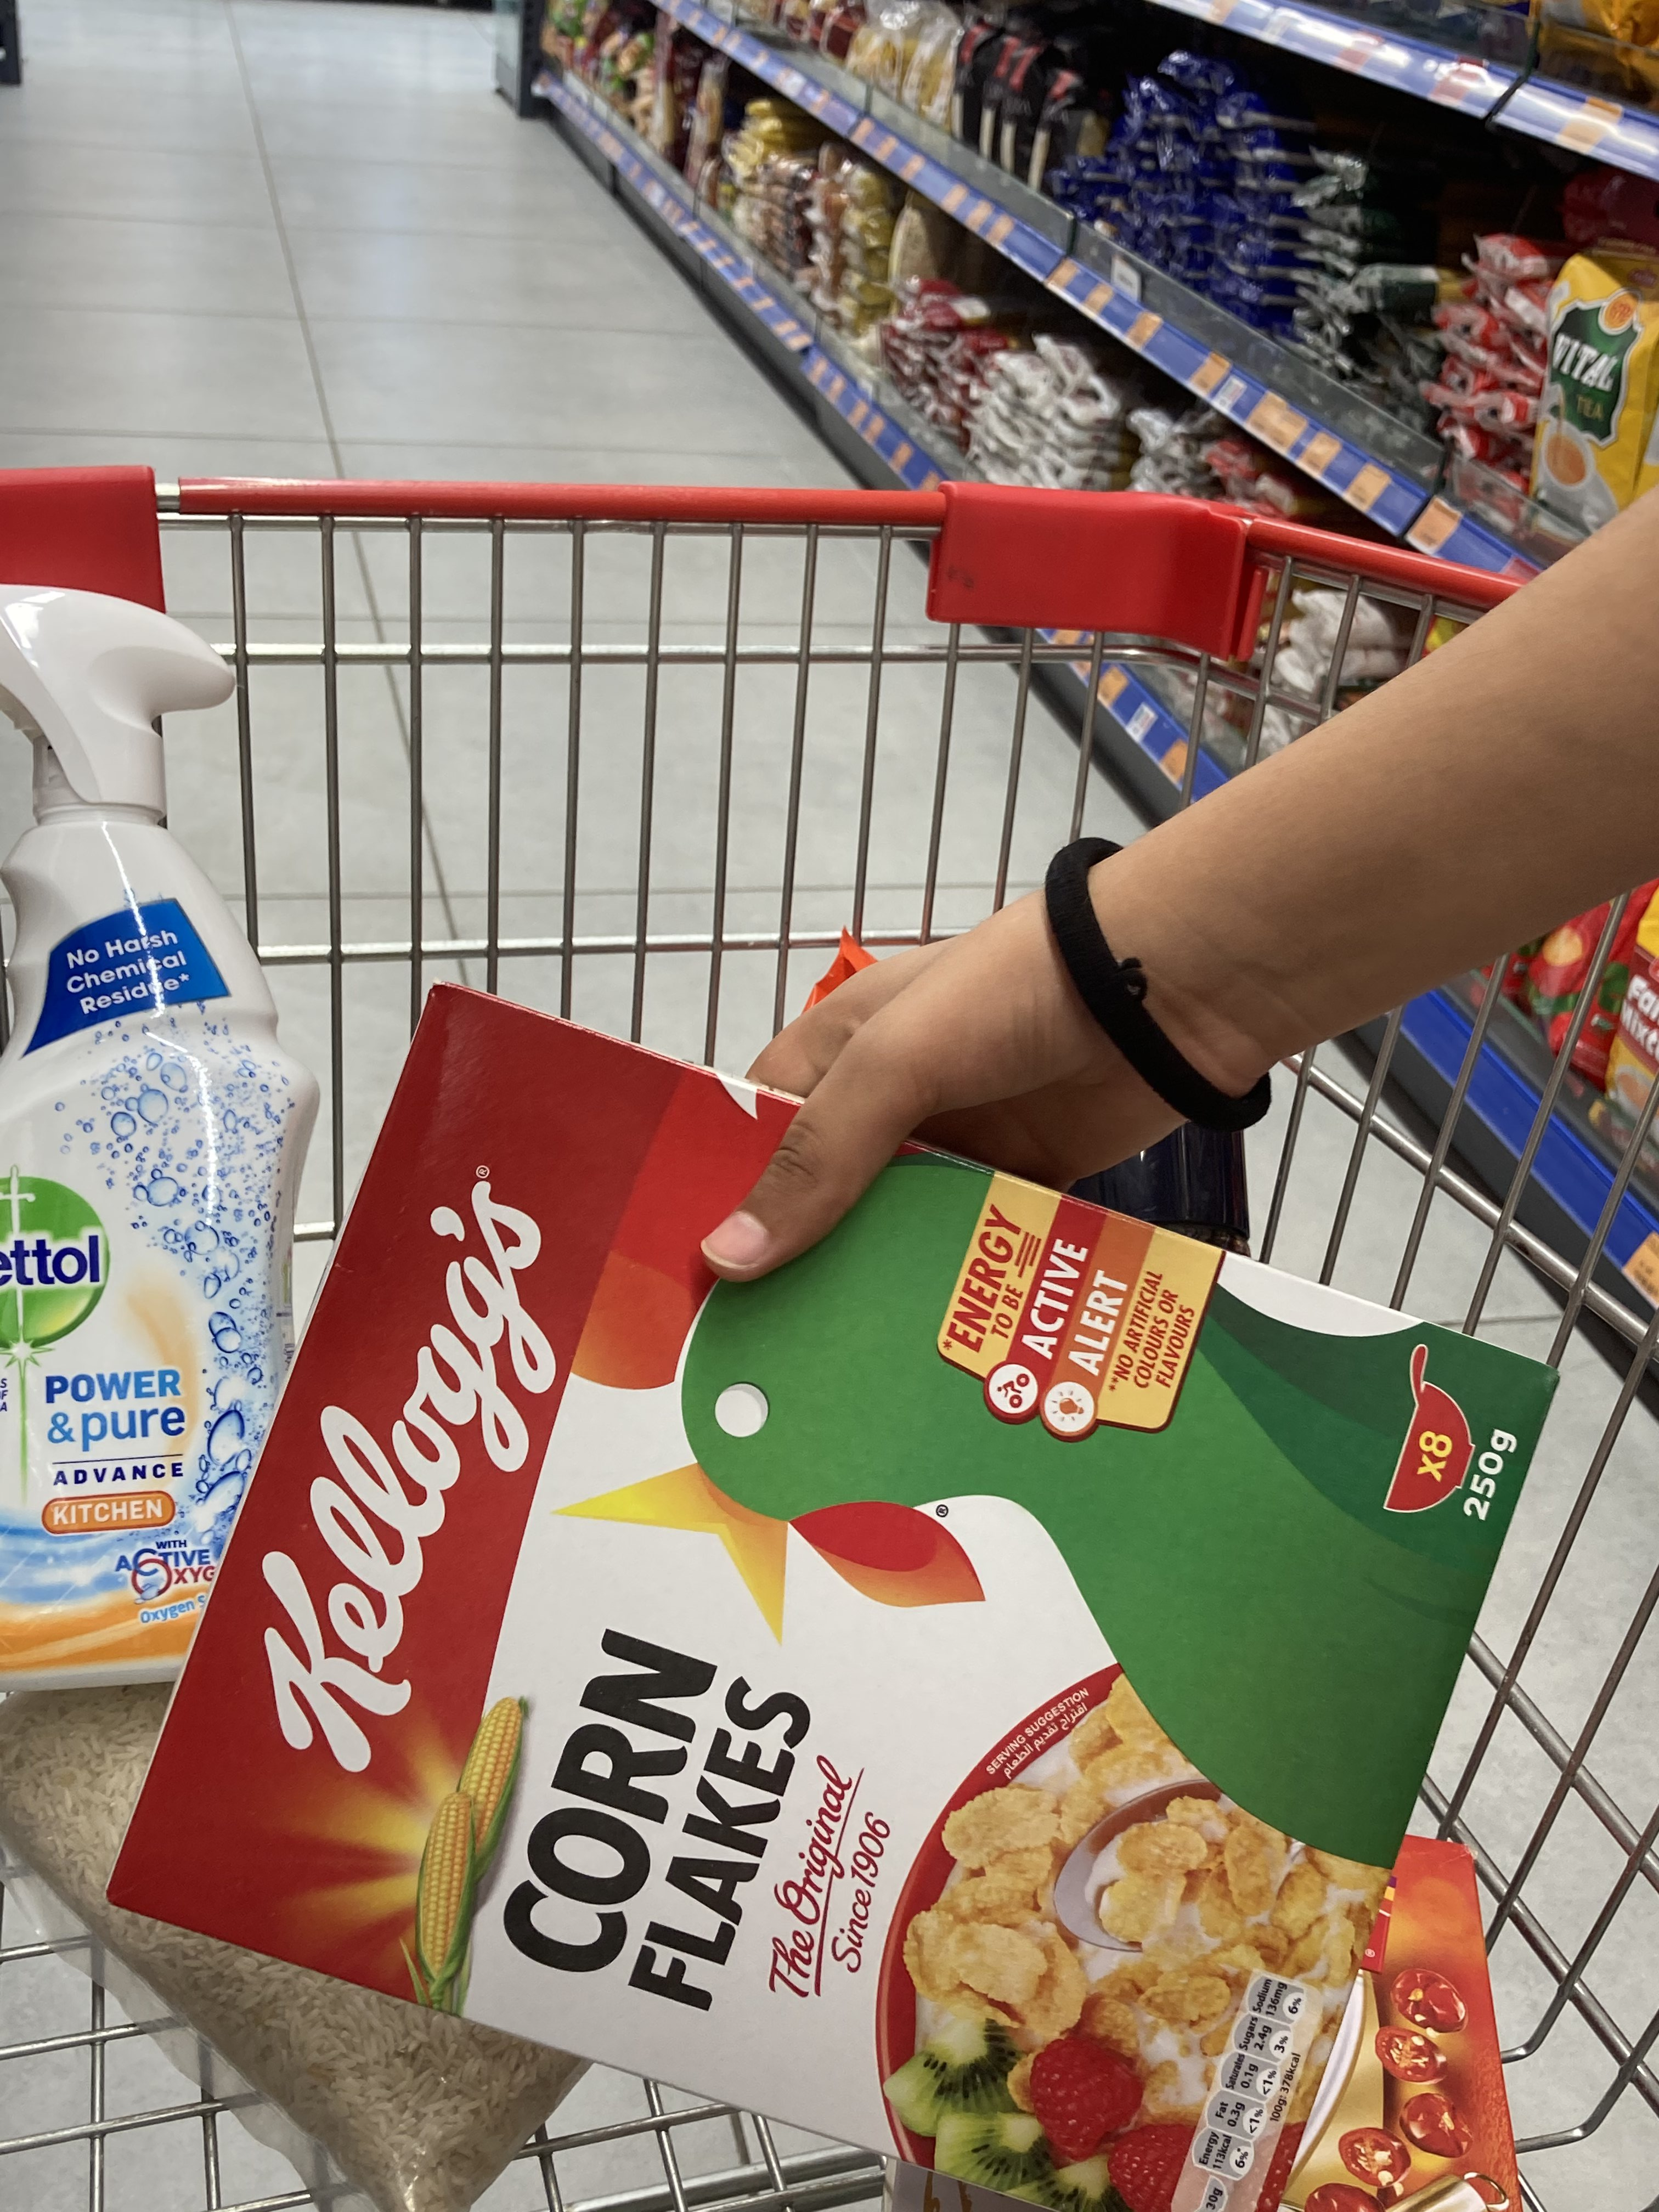Kellogg's Corn Flakes: (112, 989, 1558, 2212)
